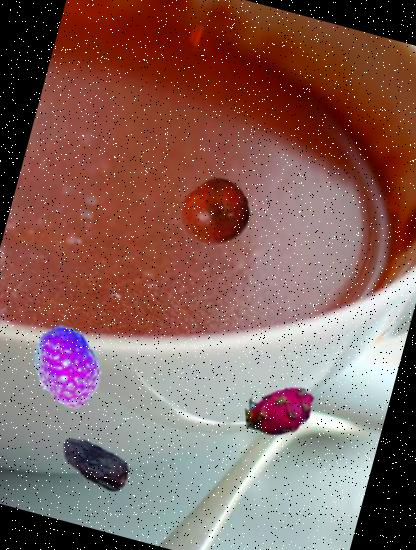Dates: (51, 416, 142, 508)
Nectarine: (171, 170, 258, 256)
Pitahaya: (237, 368, 323, 454)
Raspberry: (14, 317, 118, 420)
